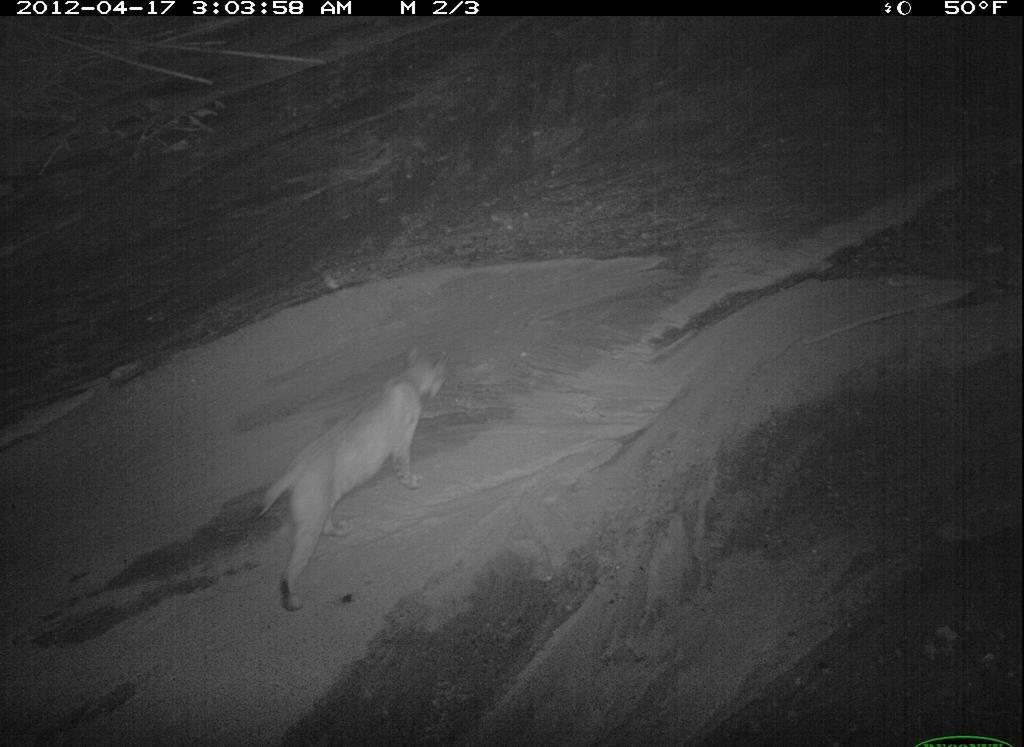bobcat: (487, 671, 909, 747)
